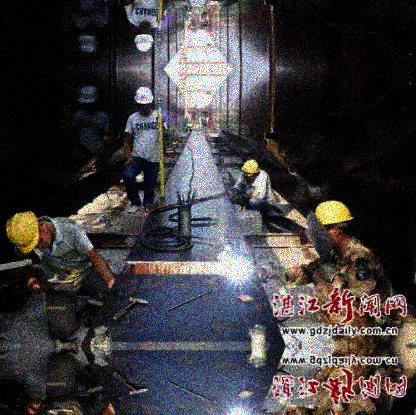helmet: (6, 210, 53, 254), (315, 201, 354, 249), (133, 23, 155, 52), (133, 86, 154, 116), (241, 160, 261, 181)
